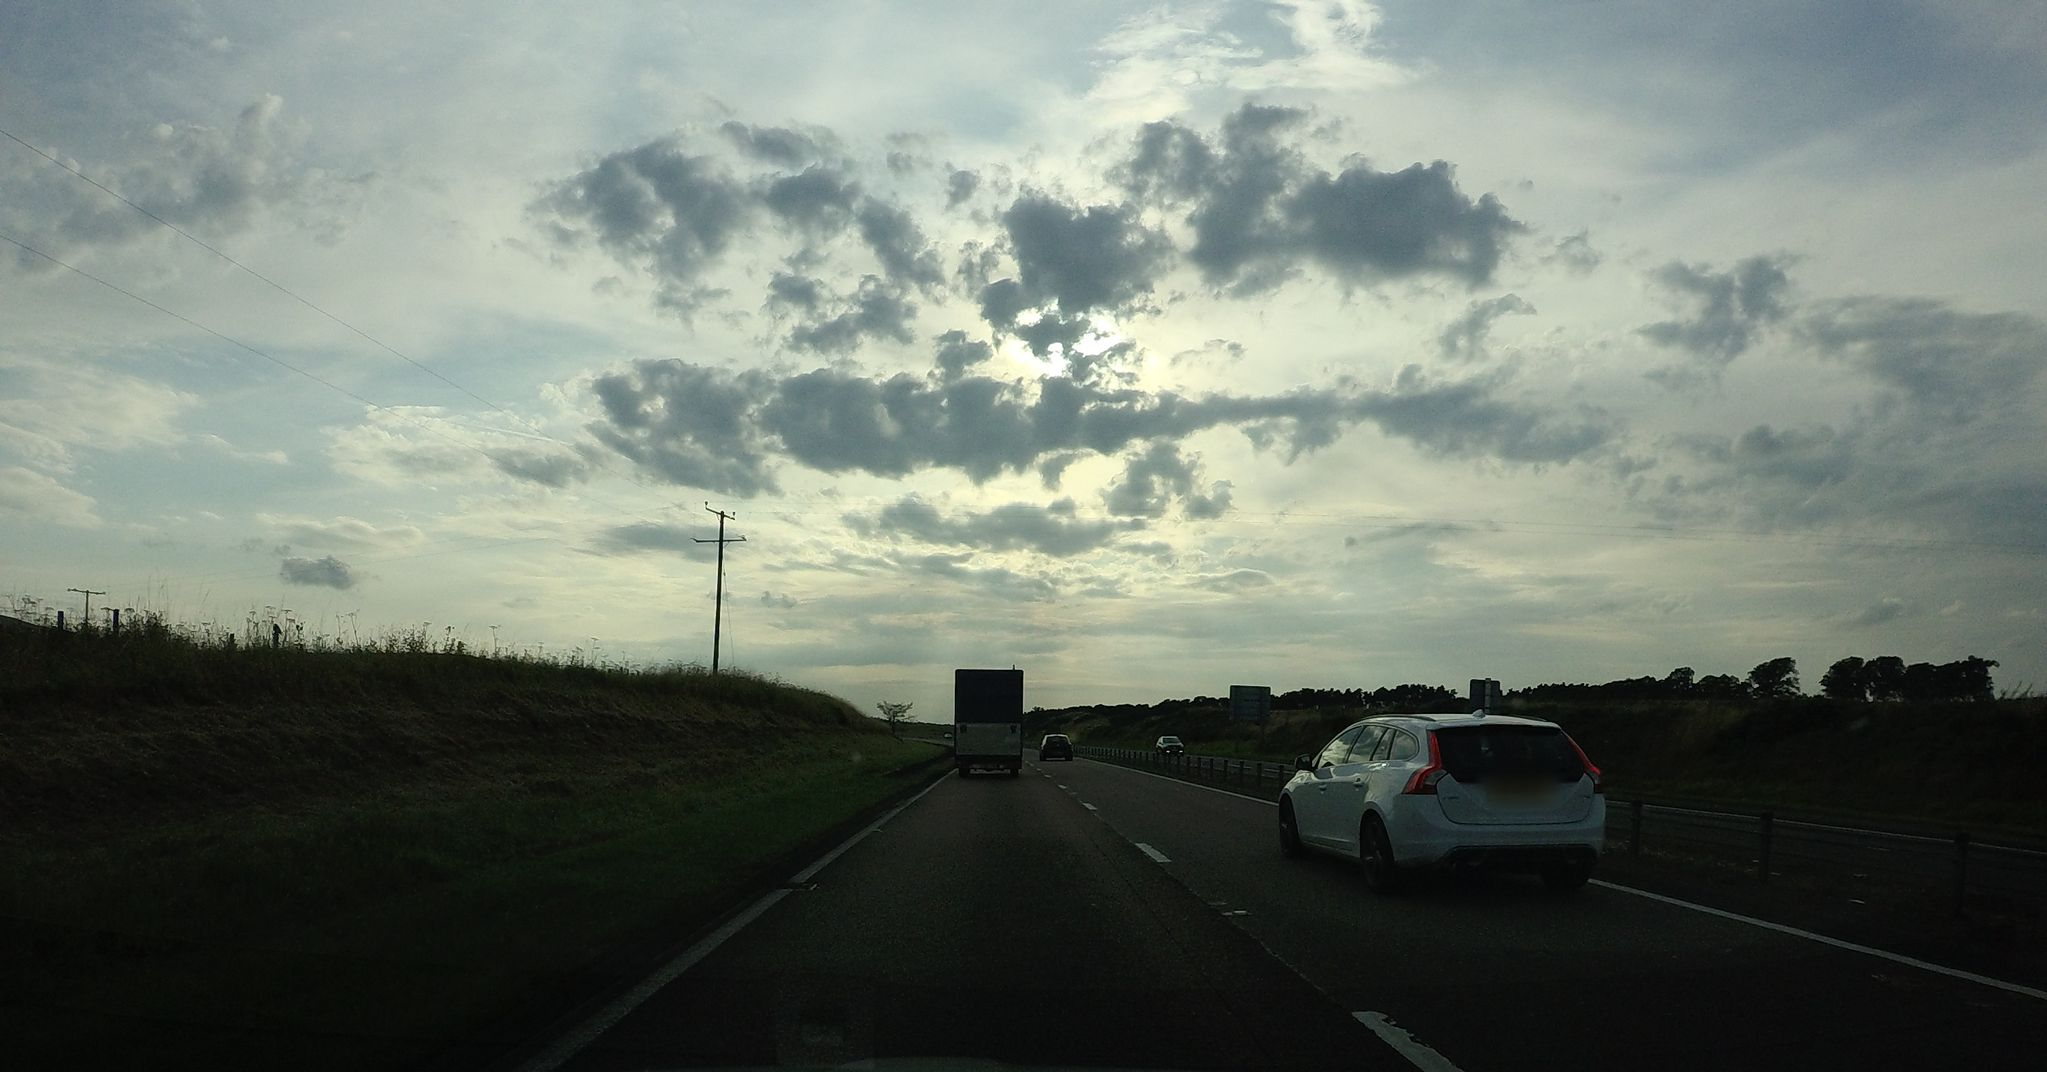car: (1279, 709, 1608, 887), (1038, 734, 1074, 759), (1155, 735, 1185, 757)
truck: (953, 666, 1023, 774)
